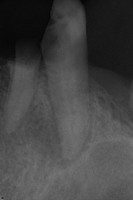Furcation Involvement: (5, 98, 94, 169)
